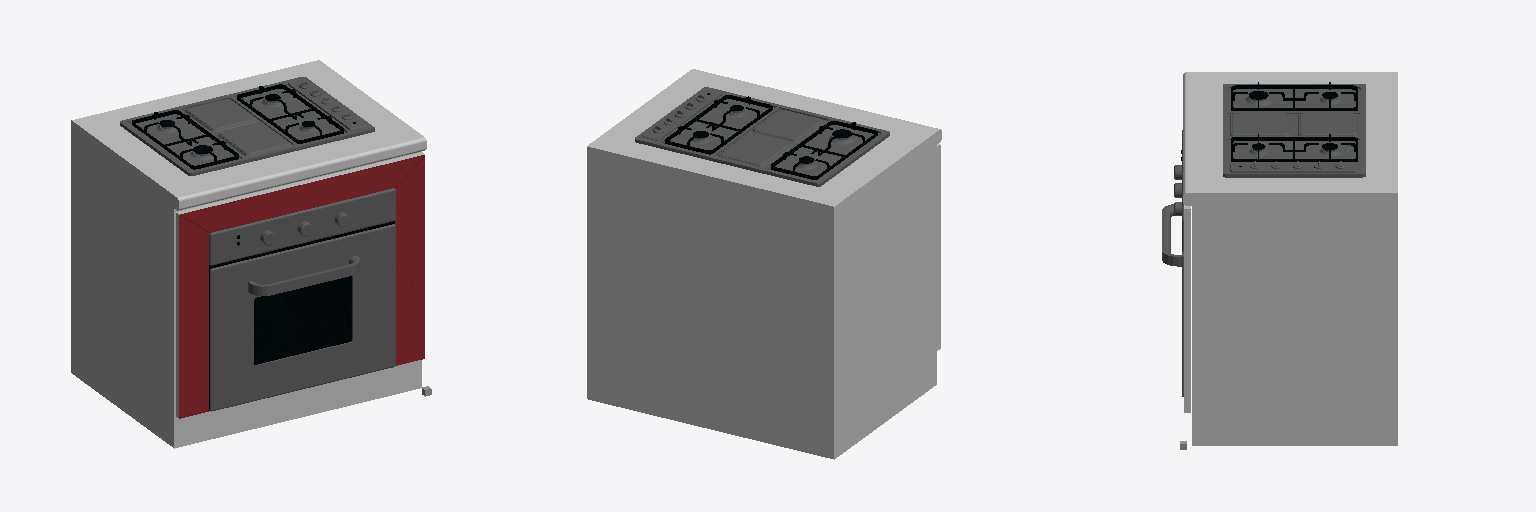
3 renders of one model, left to right at view 1: azimuth 30°, elevation 25°; view 2: azimuth 150°, elevation 25°; view 3: azimuth 270°, elevation 25°, orthographic.
Visible parts, largest first — view 1: Box10_2, ChamferBox02_7, Line0911_5, Line15_1, Box11_3, Box12_10, Rectangle02_16, ChamferBox01_6, Line09_4, Loft05_9, Rectangle07_55, Rectangle08_56 (+4 smaller); view 2: Box10_2, Line15_1, Box11_3, Rectangle02_16, Rectangle08_56, Rectangle07_55, Rectangle01_17, Rectangle06_35, Line09_4, Rectangle04_18; view 3: Box10_2, Line15_1, Box11_3, Rectangle02_16, Line09_4, Rectangle08_56, Rectangle07_55, Rectangle01_17, Rectangle04_18, Rectangle06_35, Loft05_9.
Boxes of the visible parts, box(x1,y1,x2,y2) form: Box10_2: box(71, 133, 421, 415); ChamferBox02_7: box(210, 224, 395, 411); Line0911_5: box(179, 155, 424, 418); Line15_1: box(71, 60, 426, 210); Box11_3: box(71, 341, 421, 448); Box12_10: box(254, 276, 351, 364); Rectangle02_16: box(120, 77, 374, 175); ChamferBox01_6: box(209, 188, 395, 265); Line09_4: box(176, 152, 424, 417); Loft05_9: box(248, 256, 359, 295); Rectangle07_55: box(186, 99, 255, 129); Rectangle08_56: box(220, 124, 289, 154); Box10_2: box(587, 145, 936, 426); Line15_1: box(587, 69, 941, 219); Box11_3: box(587, 353, 936, 459); Rectangle02_16: box(635, 87, 889, 186); Rectangle08_56: box(754, 110, 822, 139); Rectangle07_55: box(720, 135, 788, 164); Rectangle01_17: box(642, 89, 721, 140); Rectangle06_35: box(665, 95, 772, 154); Line09_4: box(937, 144, 940, 350); Rectangle04_18: box(771, 121, 877, 179); Box10_2: box(1192, 206, 1397, 412); Line15_1: box(1183, 72, 1397, 205); Box11_3: box(1192, 413, 1397, 445); Rectangle02_16: box(1223, 84, 1365, 177); Line09_4: box(1184, 205, 1190, 412); Rectangle08_56: box(1232, 113, 1288, 134); Rectangle07_55: box(1300, 113, 1356, 134); Rectangle01_17: box(1230, 162, 1358, 172); Rectangle04_18: box(1231, 85, 1357, 110); Rectangle06_35: box(1231, 137, 1357, 161); Loft05_9: box(1162, 204, 1181, 266).
Bounding box in the file's own units: 81 × 82.1 × 66.01.
Materials: 11 (4 with a texture image).